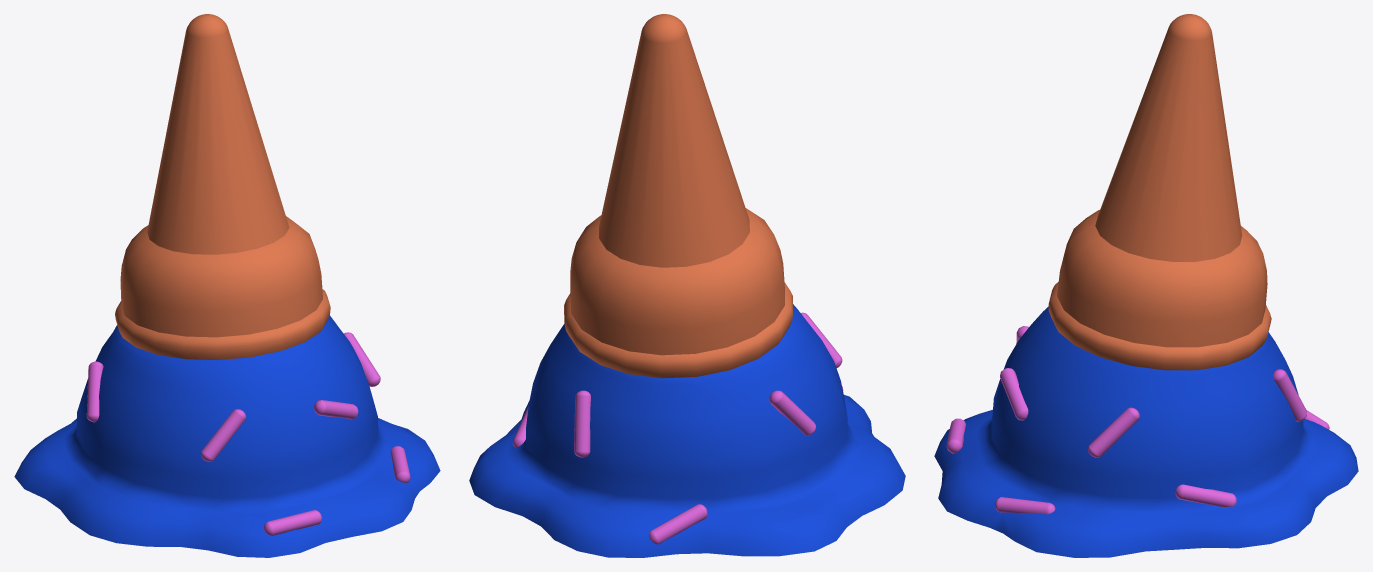
The model's file is SM_Icecream_Cone.fbx.
3 renders of one model, left to right at view 1: azimuth 30°, elevation 25°; view 2: azimuth 150°, elevation 25°; view 3: azimuth 270°, elevation 25°, orthographic. The views are drawn at different scales.
Parts seen in each view (by area): view 1: SM_Icecream_Cone; view 2: SM_Icecream_Cone; view 3: SM_Icecream_Cone.
Part boxes in pixels (x1,y1,x2,y2): SM_Icecream_Cone: (14,14,440,557); SM_Icecream_Cone: (469,14,905,557); SM_Icecream_Cone: (934,14,1358,557).
Size of the model in its own units: 11.36 by 13.92 by 11.75.
